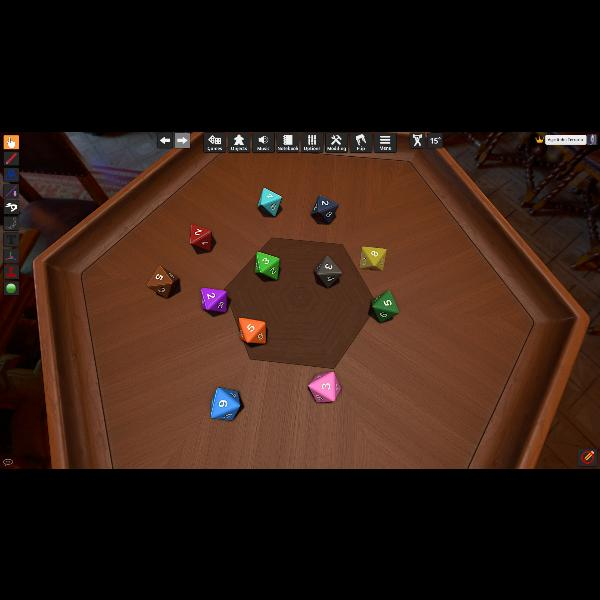d8: (306, 370, 342, 404), (210, 386, 241, 419), (148, 265, 178, 297), (371, 290, 399, 322), (316, 254, 342, 288), (357, 244, 389, 270), (258, 185, 284, 215), (312, 194, 338, 224), (238, 317, 266, 344), (201, 287, 229, 313), (255, 250, 279, 278), (190, 223, 212, 251)
